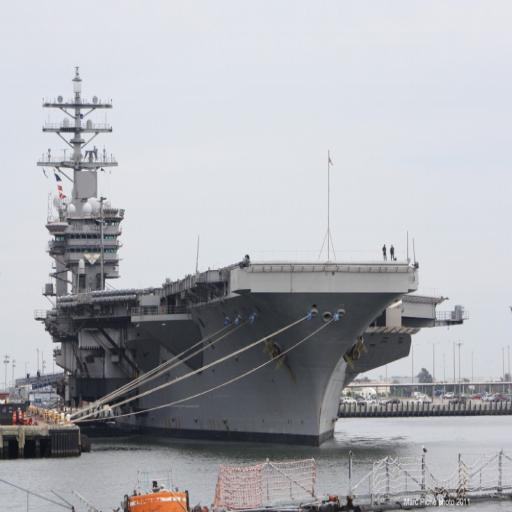Portanaves: (31, 62, 472, 453)
